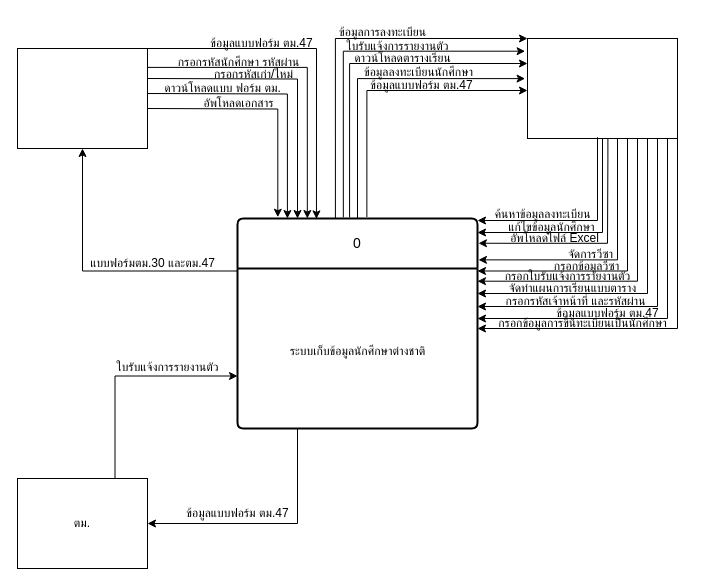
This 705x586 diagram has some shape labels left out. The centre of each missing label's shape, as x and y in pixels:
นักศึกษา: point 82,98
ผู้ดูแลระบบ (เจ้าหน้าที่): point 602,88
